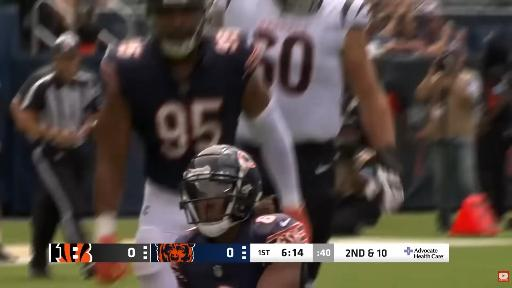Helmet: (180, 145, 262, 237), (147, 0, 213, 59), (275, 0, 322, 14)
Jersey: (104, 29, 257, 189), (224, 0, 369, 143), (172, 262, 270, 287)
Player: (94, 0, 307, 243), (215, 0, 399, 243), (176, 146, 308, 243)
